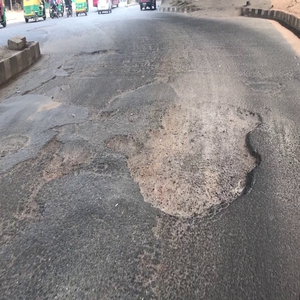pothole: (127, 105, 265, 223)
